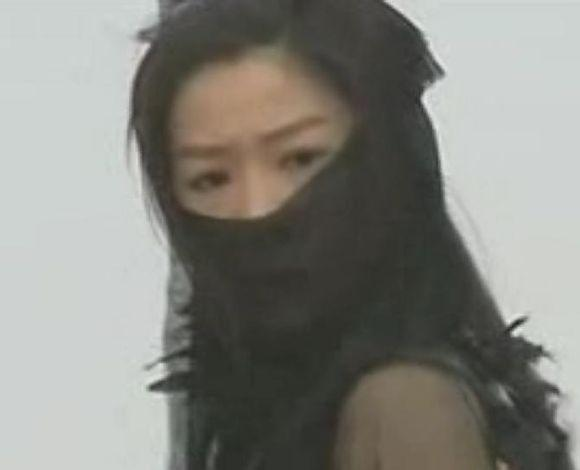WRONG: (172, 106, 362, 296)
